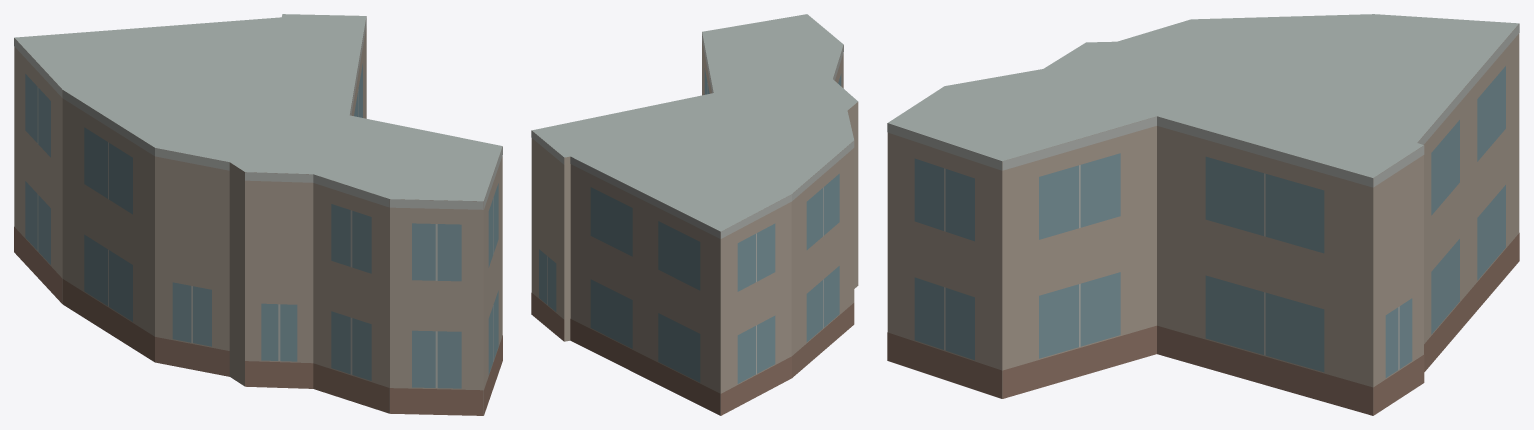
File: survey-upis-32973578.glb
3 renders of one model, left to right at view 1: azimuth 30°, elevation 25°; view 2: azimuth 150°, elevation 25°; view 3: azimuth 270°, elevation 25°, orthographic. The views are drawn at different scales.
Parts seen in each view (by area): view 1: survey-upis-32973578.tmp; view 2: survey-upis-32973578.tmp; view 3: survey-upis-32973578.tmp.
Part boxes in pixels (x1=…): survey-upis-32973578.tmp: x1=14, y1=14, x2=502, y2=415; survey-upis-32973578.tmp: x1=531, y1=14, x2=858, y2=415; survey-upis-32973578.tmp: x1=887, y1=14, x2=1519, y2=415.
Bounding box in the file's own units: 9.04 × 6.1 × 14.7.
